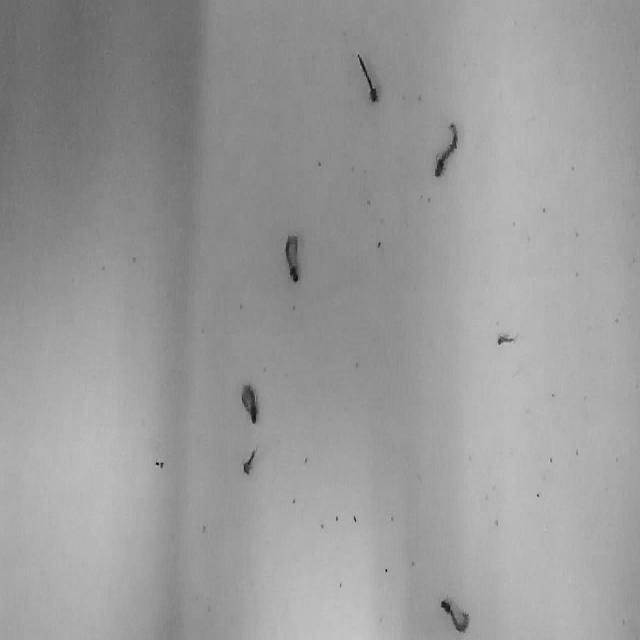larvas: (434, 122, 458, 176), (357, 52, 378, 102), (440, 599, 470, 632), (284, 234, 300, 282), (241, 384, 257, 423), (243, 446, 254, 474), (497, 332, 517, 344)
